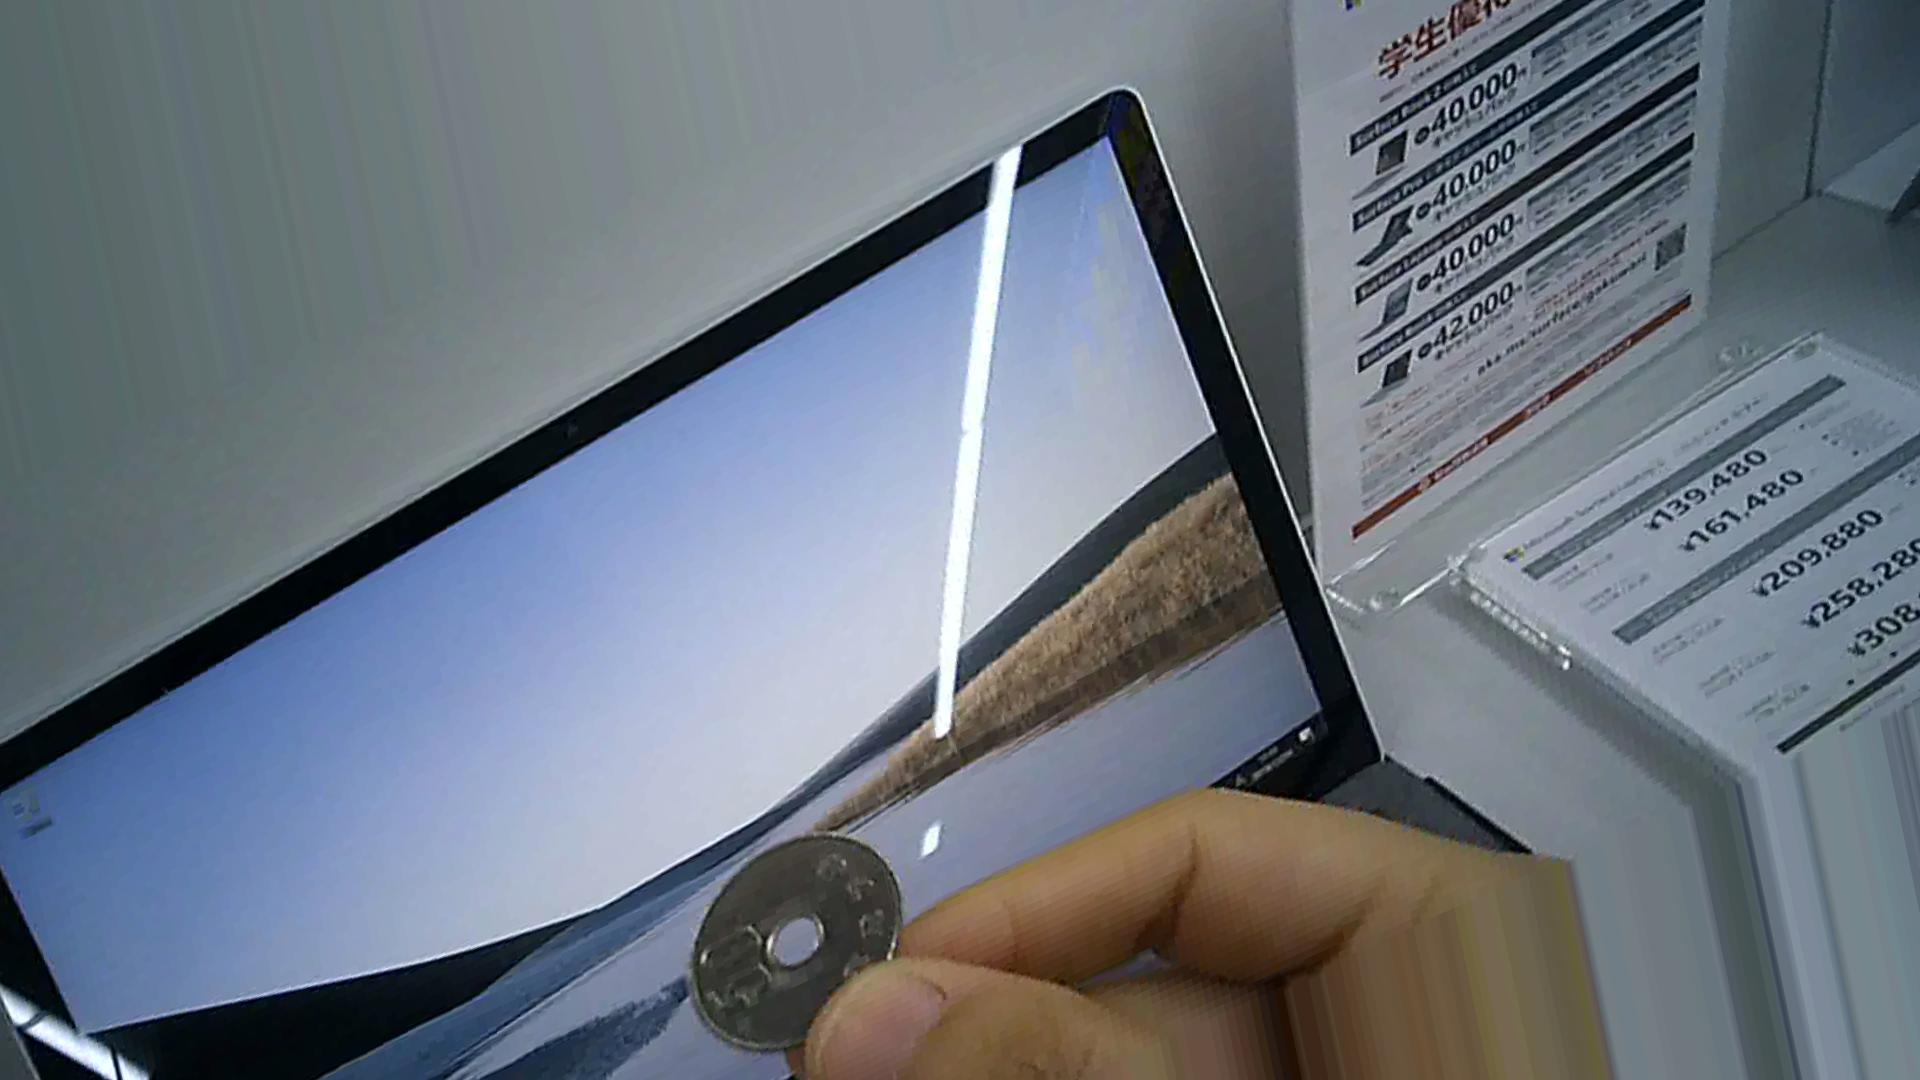50 Yen: (669, 839, 910, 1047)
